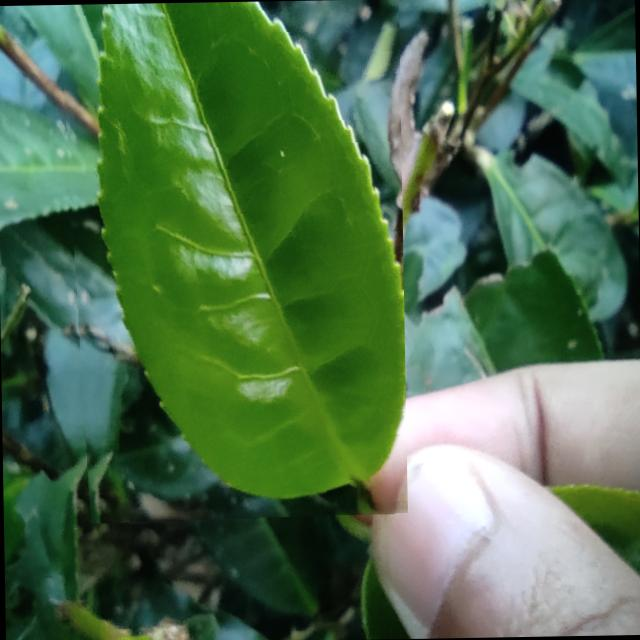Category C 4-7 days: (58, 0, 407, 523)
